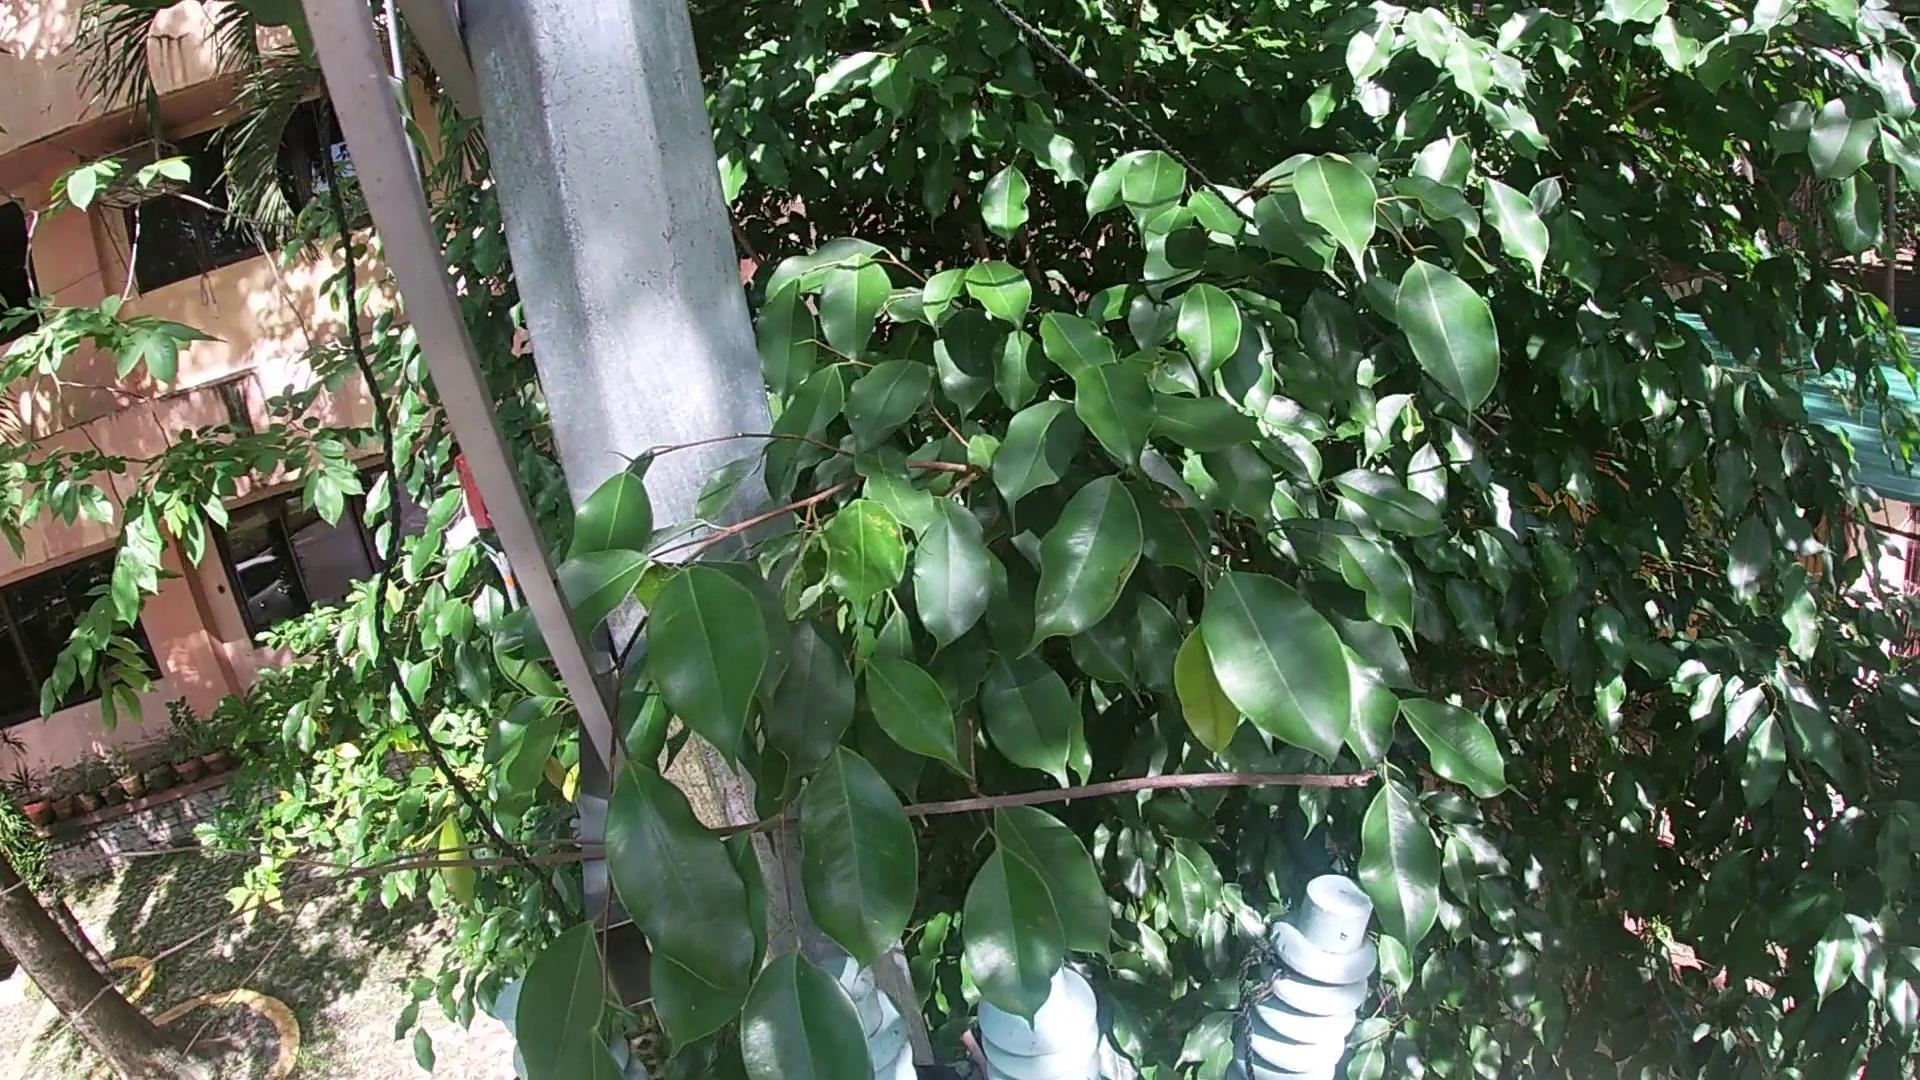tree branch: (25, 733, 1400, 1080)
